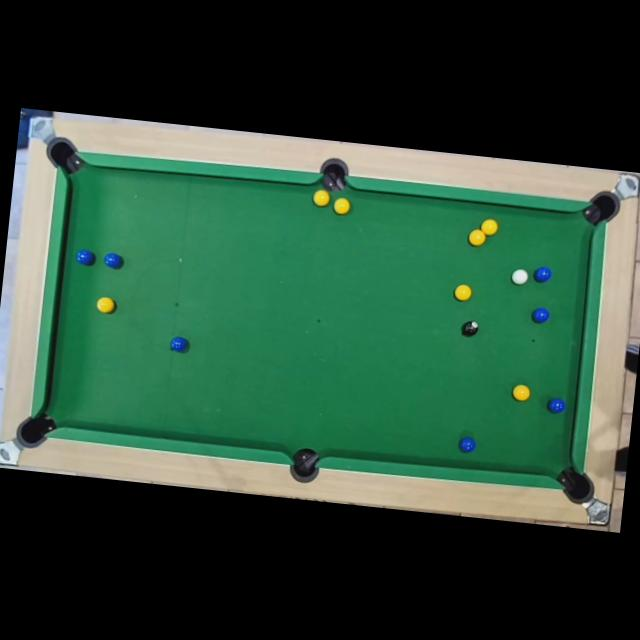Ball: (545, 396, 566, 414), (95, 296, 116, 314), (478, 218, 498, 236), (466, 229, 486, 247), (512, 384, 531, 402), (102, 251, 121, 269), (530, 306, 548, 324), (533, 265, 551, 283), (454, 283, 472, 301), (458, 436, 476, 454), (169, 336, 188, 353), (312, 190, 329, 208), (333, 197, 351, 214), (512, 268, 529, 285), (462, 320, 478, 337), (76, 250, 92, 264)
